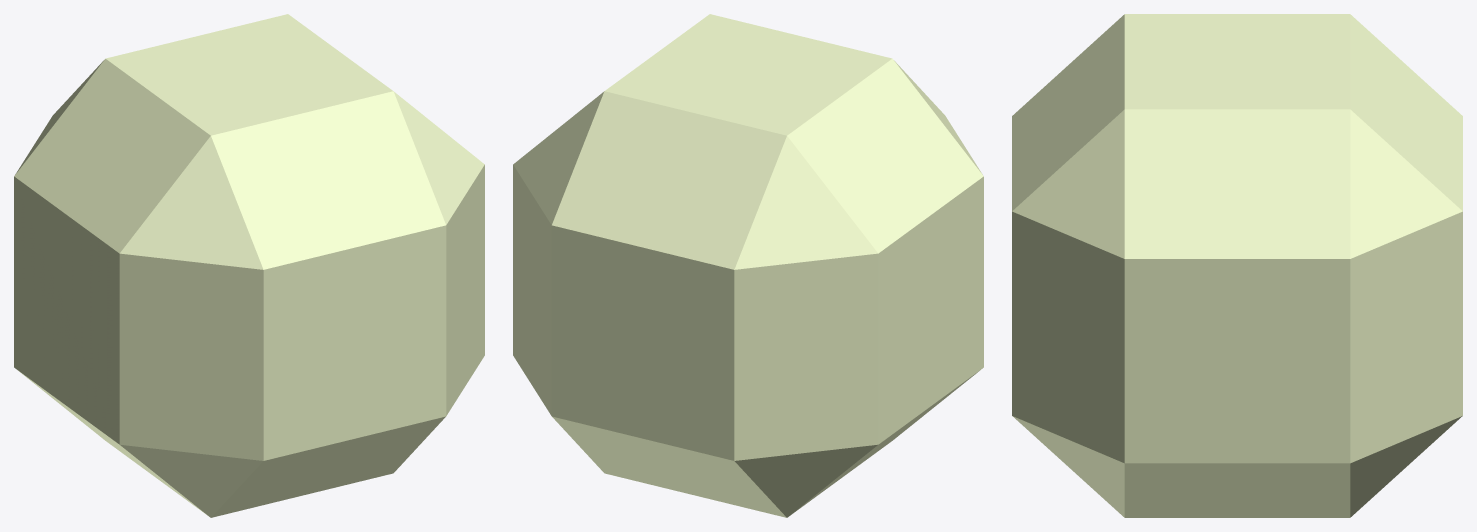
Rendered from Ball.gltf.
The picture shows the model from 3 angles, left to right: view 1: azimuth 30°, elevation 25°; view 2: azimuth 150°, elevation 25°; view 3: azimuth 270°, elevation 25°; orthographic projection. The views are drawn at different scales.
Parts seen in each view (by area): view 1: beveled_cuboid; view 2: beveled_cuboid; view 3: beveled_cuboid.
Part boxes in pixels (x1=…): beveled_cuboid: x1=14, y1=14, x2=484, y2=517; beveled_cuboid: x1=513, y1=14, x2=983, y2=517; beveled_cuboid: x1=1012, y1=14, x2=1462, y2=517.
Bounding box in the file's own units: 0.125 × 0.125 × 0.125.
1 material, 1 textured.
